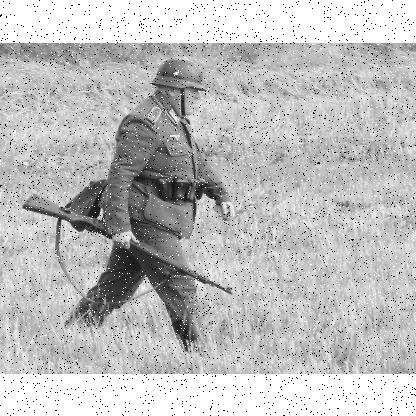gun: (41, 178, 237, 318)
